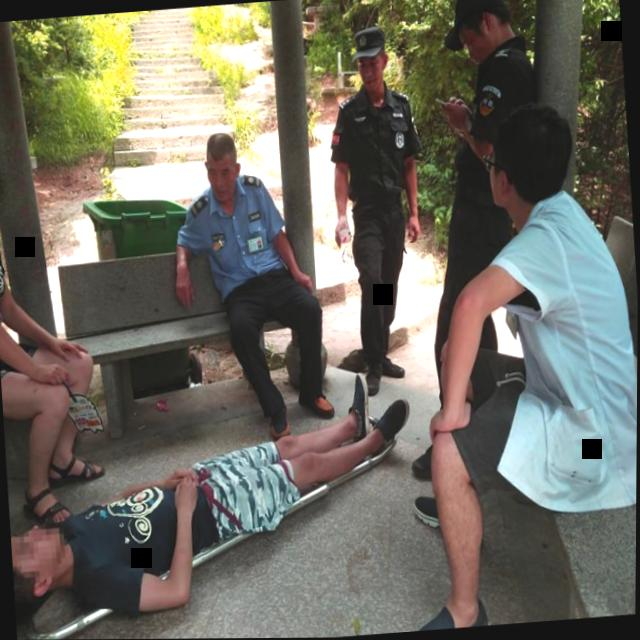Fall-Detected: (0, 358, 447, 640)
